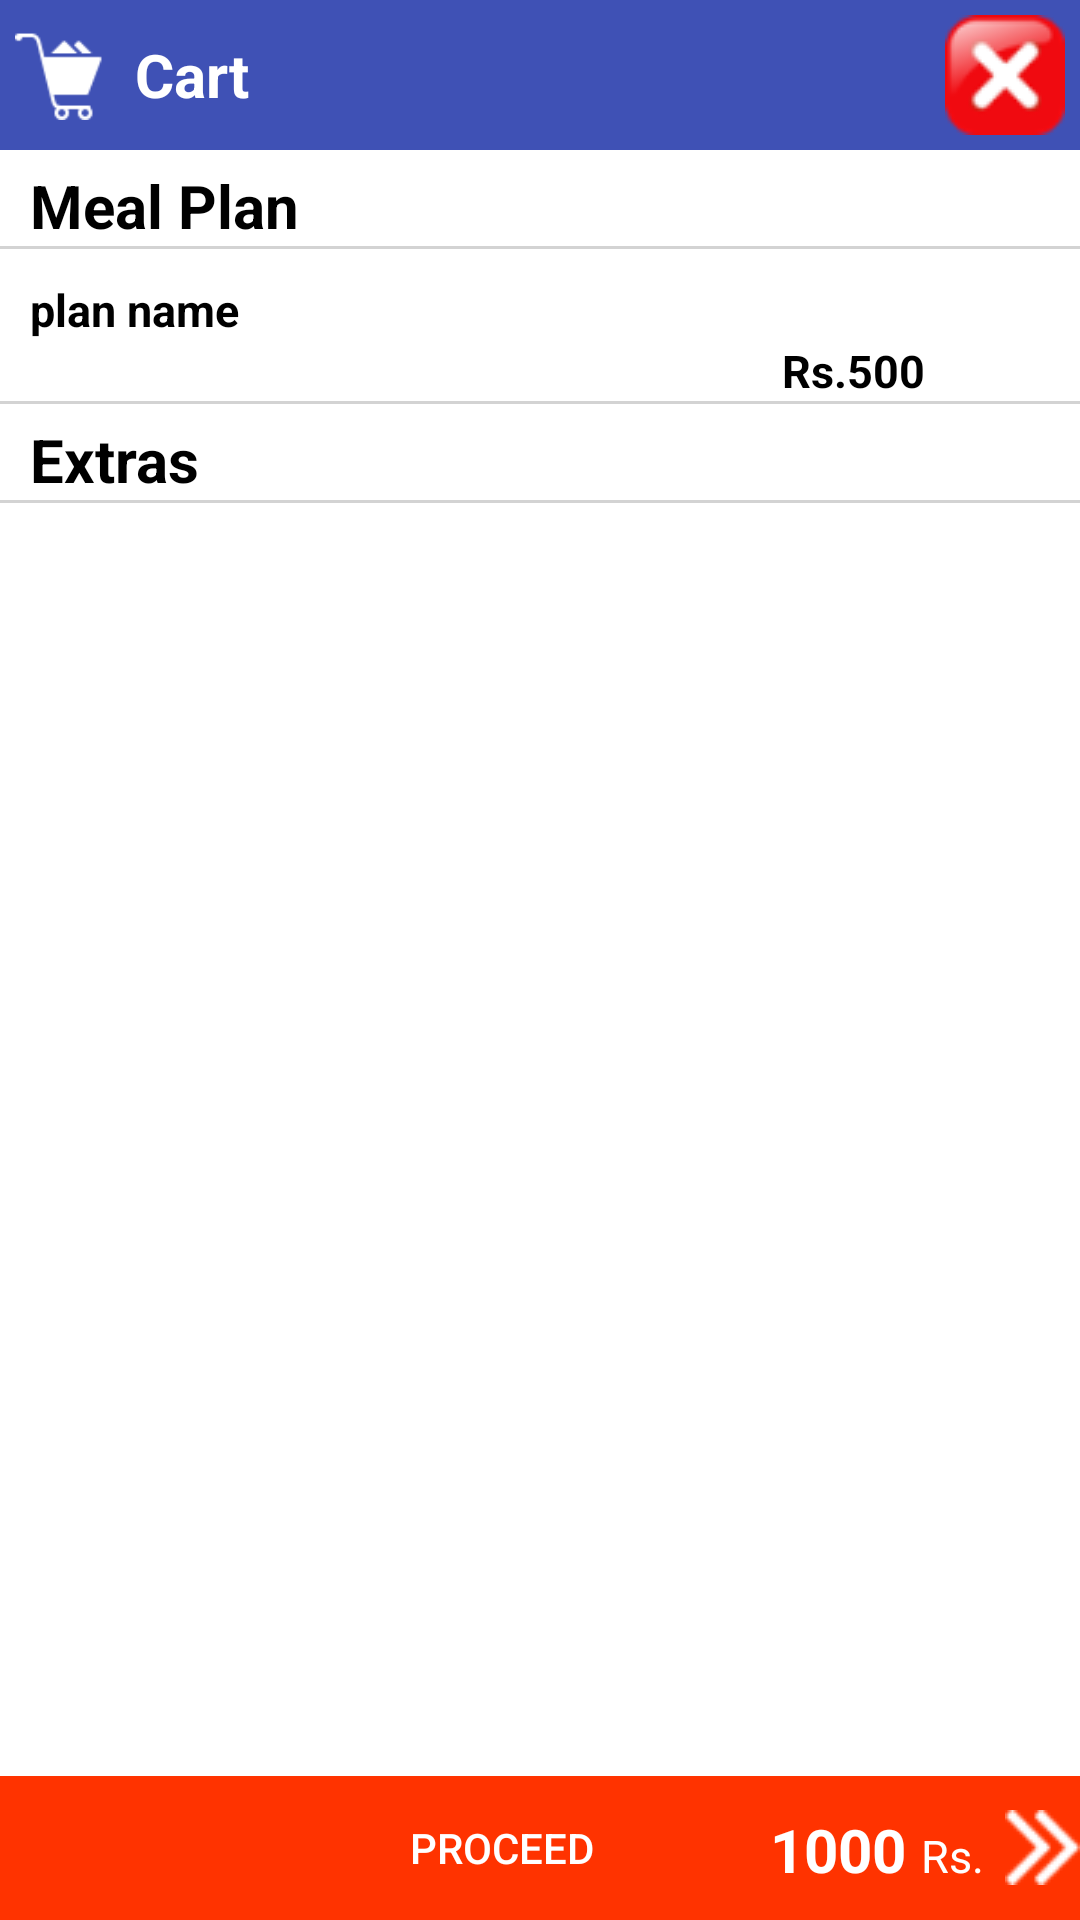

Where to tap for icons on this 1080×1920 app screen, as (x=x, y=y):
close: (x=1005, y=75)
